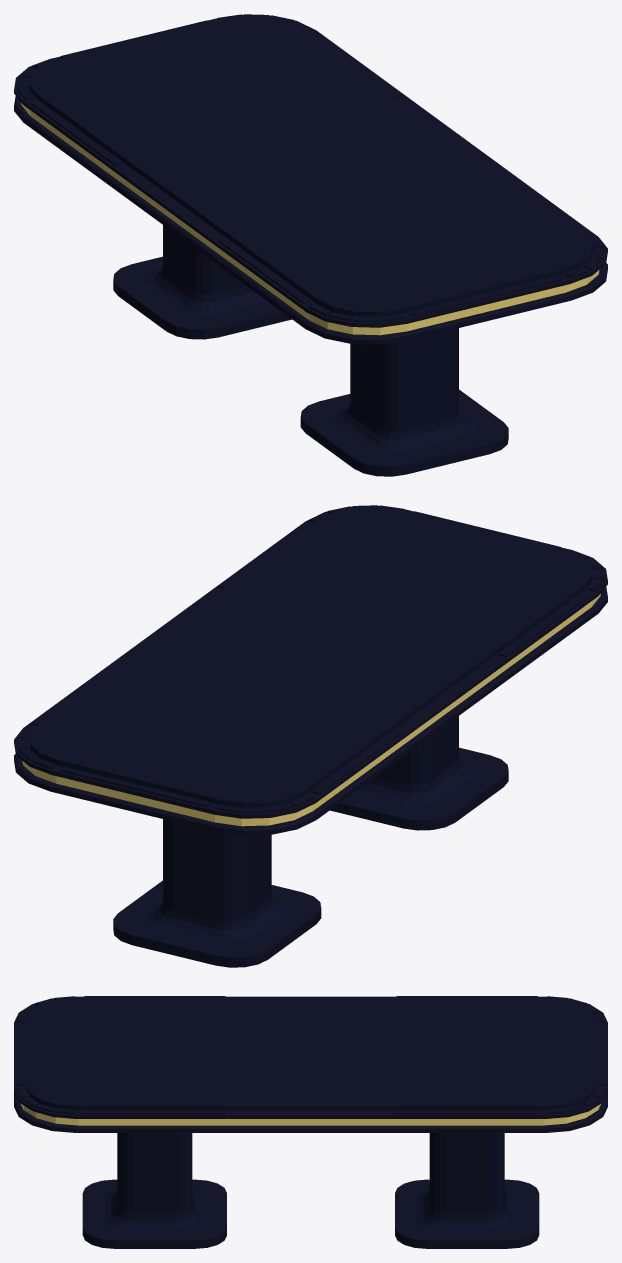
File: Table.fbx
3 renders of one model, top to bottom at view 1: azimuth 30°, elevation 25°; view 2: azimuth 150°, elevation 25°; view 3: azimuth 270°, elevation 25°, orthographic. The views are drawn at different scales.
Parts seen in each view (by area): view 1: Cube.037; view 2: Cube.037; view 3: Cube.037.
Boxes of the visible parts, x1,y1,x2,y2 form: Cube.037: (14,14,607,476); Cube.037: (14,505,607,967); Cube.037: (14,996,607,1248).
Bounding box in the file's own units: 349 × 228 × 737.
